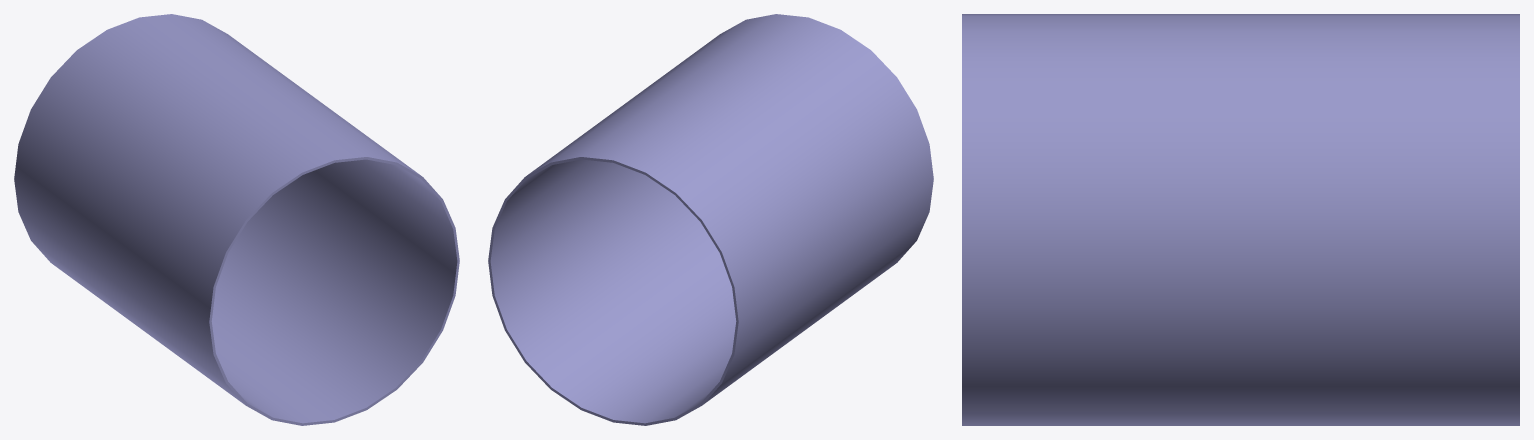
Rendered from PDCUpFlexBPipePipe.gltf.
3 renders of one model, left to right at view 1: azimuth 30°, elevation 25°; view 2: azimuth 150°, elevation 25°; view 3: azimuth 270°, elevation 25°, orthographic. The views are drawn at different scales.
Parts seen in each view (by area): view 1: logicPDCUpFlexBPipePipe_pv0x2240660; view 2: logicPDCUpFlexBPipePipe_pv0x2240660; view 3: logicPDCUpFlexBPipePipe_pv0x2240660.
Boxes of the visible parts, x1=… form: logicPDCUpFlexBPipePipe_pv0x2240660: x1=14, y1=14, x2=459, y2=425; logicPDCUpFlexBPipePipe_pv0x2240660: x1=488, y1=14, x2=933, y2=425; logicPDCUpFlexBPipePipe_pv0x2240660: x1=962, y1=14, x2=1519, y2=425.
Size of the model in its own units: 20.24 by 20.24 by 27.31.
